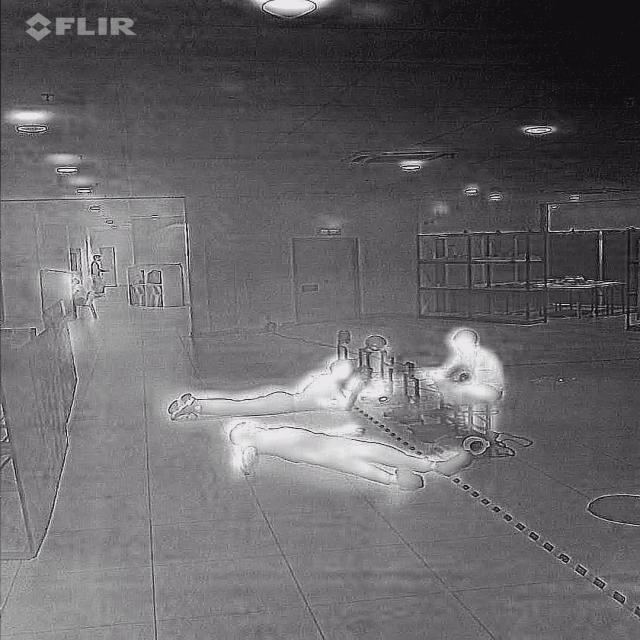Victim: (214, 413, 476, 489), (160, 350, 370, 424), (412, 325, 513, 412)
